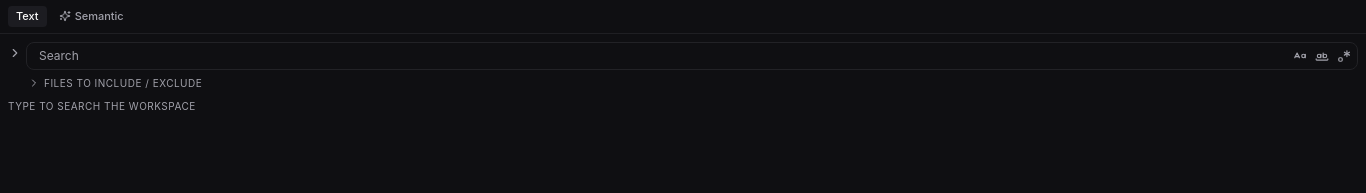
SearchPanel text mode › defaults to text mode on the desktop and renders grouped results
Step 1. Type "foo" into the field with placeholder "Search" → [692, 56], box [26,42,1358,70]
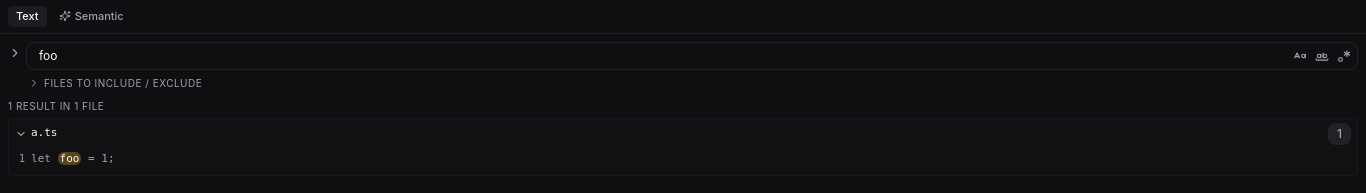
Result: the text "a.ts" is shown at [31,125,58,142]
Result: the text "foo" is shown at [58,152,81,164]
